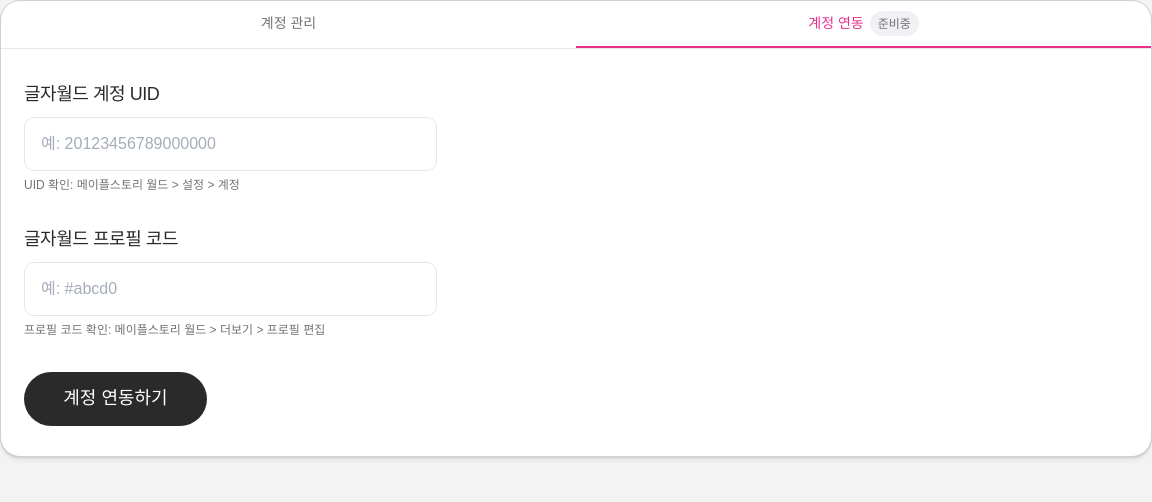
MswLinkCard — 플래그 ON › should put a duplicate-uid error next to its own field
Type "20123456789000000" into the field labelled "글자월드 계정 UID" at (230, 144), box [24, 117, 437, 171]
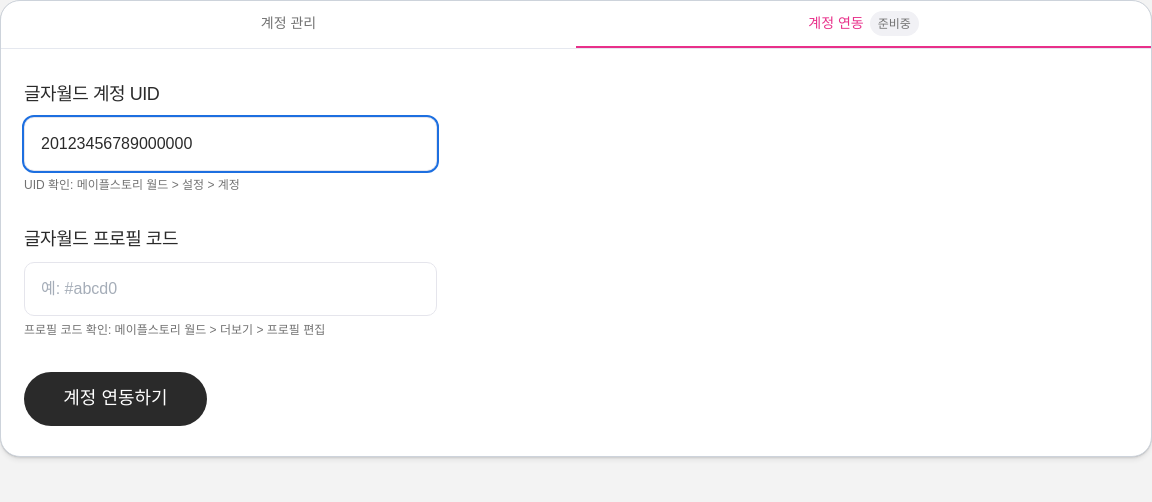
Type "#abcd0" into the field labelled "글자월드 프로필 코드" at (230, 289), box [24, 262, 437, 316]
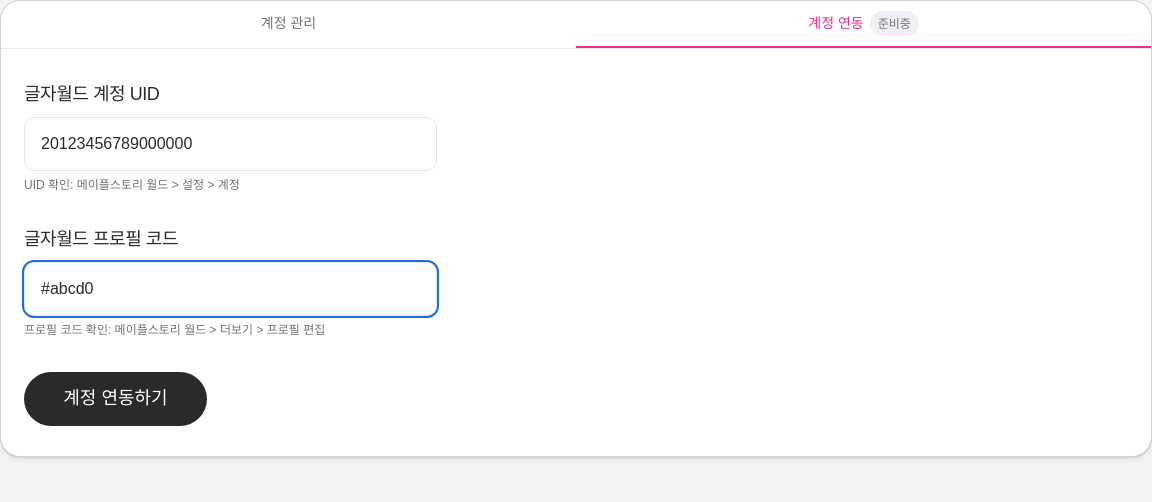
Click the button "계정 연동하기" at (116, 399), box [24, 372, 207, 426]
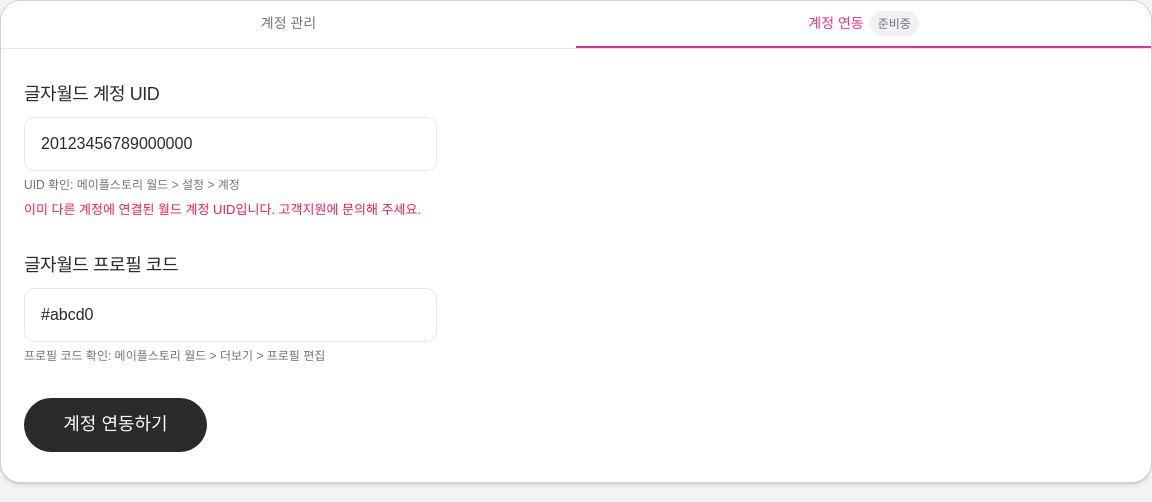
expect the message shows "이미 다른 계정에 연결된": met, box [24, 202, 421, 217]
